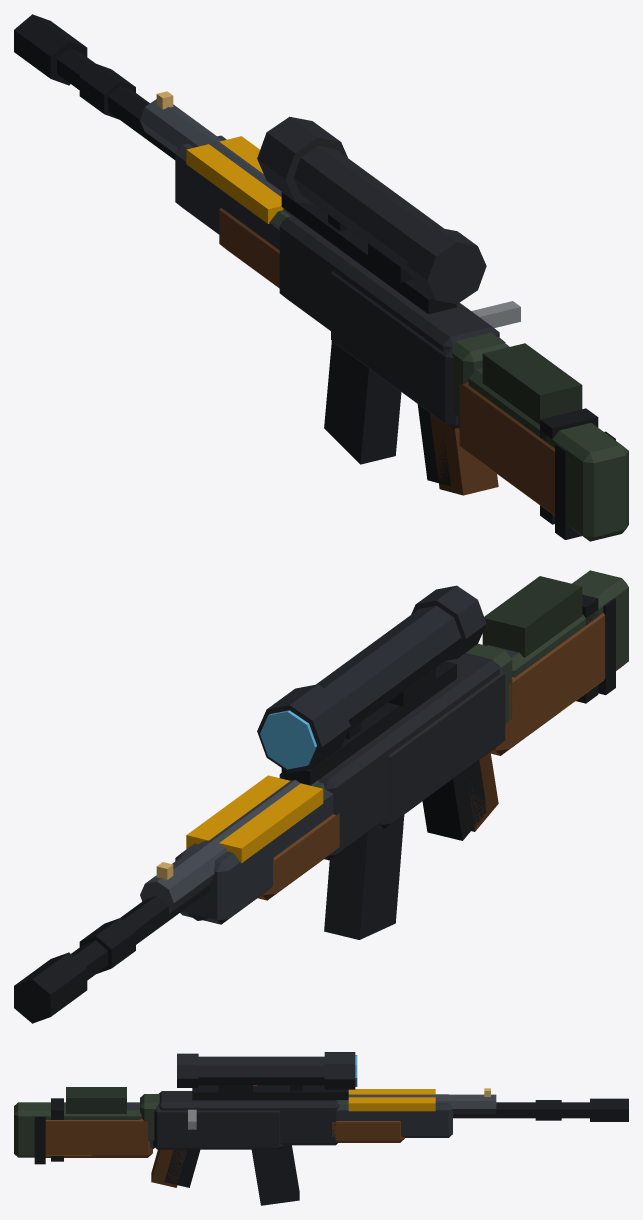
File: weapons.glb
3 views of the same model, one above another, from view 1: azimuth 30°, elevation 25°; view 2: azimuth 150°, elevation 25°; view 3: azimuth 270°, elevation 25° (orthographic). The views are drawn at different scales.
Visible parts, largest first — view 1: Sniper, Rifle, Shotgun; view 2: Rifle, Sniper, Shotgun; view 3: Rifle, Shotgun, Sniper.
Part boxes in pixels (x1,y1,x2,y2): Sniper: [14, 14, 628, 541]; Rifle: [79, 63, 598, 524]; Shotgun: [140, 91, 615, 539]; Rifle: [79, 594, 598, 973]; Sniper: [14, 570, 628, 1023]; Shotgun: [140, 598, 615, 920]; Rifle: [51, 1085, 561, 1205]; Shotgun: [34, 1088, 496, 1187]; Sniper: [14, 1052, 628, 1170].
Bounding box in the file's own units: 0.151 × 0.3768 × 1.41.
